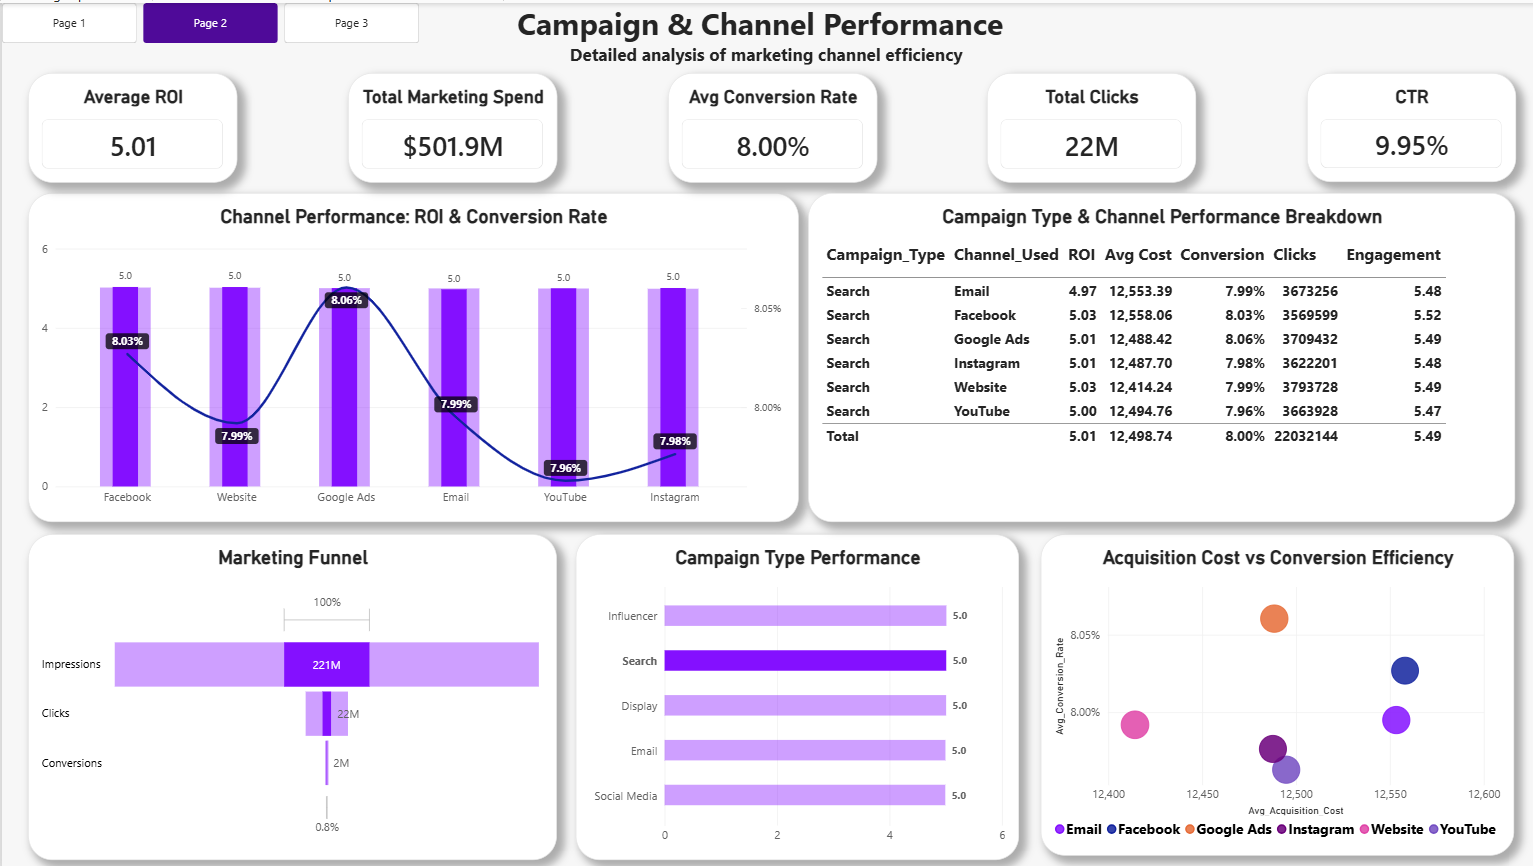

The dashboard page shown, as its layout file describes it:
{"tool":"powerbi","page":{"name":"Page 2","canvas":[1920,1080],"ordinal":1},"visuals":[{"type":"textbox","box":[10,0,280,280],"z":0},{"type":"textbox","box":[0,0,1920,77.1],"z":1000},{"type":"lineClusteredColumnComboChart","title":"Channel Performance: ROI & Conversion Rate","fields":{"Category":["marketing_campaign_dataset.Channel_Used"],"Y":["_Measure.Avg_ROI"],"Y2":["_Measure.Avg_Conversion_Rate"]},"box":[32.4,237.7,960.7,410.7],"z":2000},{"type":"cardVisual","title":"Average ROI","fields":{"Data":["_Measure.Avg_ROI"]},"box":[33,86.9,260.7,136.7],"z":3000},{"type":"cardVisual","title":"Avg Conversion Rate","fields":{"Data":["_Measure.Avg_Conversion_Rate"]},"box":[830.4,87,260.7,136.7],"z":4000},{"type":"cardVisual","title":"Total Clicks","fields":{"Data":["_Measure.Total_Clicks"]},"box":[1229,87,260.7,136.7],"z":5000},{"type":"cardVisual","title":"Total Marketing Spend","fields":{"Data":["_Measure.Total_Acquisition_Cost"]},"box":[431.7,86.9,260.7,136.7],"z":6000},{"type":"cardVisual","title":"CTR","fields":{"Data":["_Measure.CTR"]},"box":[1627.7,86.9,260.8,136.4],"z":7000},{"type":"clusteredBarChart","title":"Campaign Type Performance","fields":{"Category":["marketing_campaign_dataset.Campaign_Type"],"Y":["_Measure.Avg_ROI"]},"box":[716,662.5,552.8,406.5],"z":8000},{"type":"scatterChart","title":"Acquisition Cost vs Conversion Efficiency","fields":{"Series":["marketing_campaign_dataset.Channel_Used"],"Size":["_Measure.Total_Clicks"],"X":["_Measure.Avg_Acquisition_Cost"],"Y":["_Measure.Avg_Conversion_Rate"]},"box":[1295.5,662.5,590.8,400.9],"z":10000},{"type":"funnel","title":"Marketing Funnel","fields":{"Y":["Sum(marketing_campaign_dataset.Impressions)","_Measure.Total_Clicks","_Measure.Estimated_Conversions"]},"box":[33.5,661.9,659,406],"z":11000},{"type":"tableEx","title":"Campaign Type & Channel Performance Breakdown","fields":{"Values":["marketing_campaign_dataset.Campaign_Type","marketing_campaign_dataset.Channel_Used","_Measure.Avg_ROI","_Measure.Avg_Acquisition_Cost","_Measure.Avg_Conversion_Rate","_Measure.Total_Clicks","Avg(marketing_campaign_dataset.Engagement_Score)"]},"box":[1005.7,237.7,881.9,410.7],"z":12000},{"type":"pageNavigator","box":[0,0,520,50],"z":12001}]}

Visuals, with their boxes in screenshot pixels (x1, y1, x2, y2), scaled from the page's 1920x1080 canvas onto the 1533x866 screenshot:
textbox: locate(8, 0, 232, 225)
textbox: locate(0, 0, 1532, 62)
"Channel Performance: ROI & Conversion Rate" lineClusteredColumnComboChart: locate(26, 191, 793, 520)
"Average ROI" cardVisual: locate(26, 70, 235, 179)
"Avg Conversion Rate" cardVisual: locate(663, 70, 871, 179)
"Total Clicks" cardVisual: locate(981, 70, 1189, 179)
"Total Marketing Spend" cardVisual: locate(345, 70, 553, 179)
"CTR" cardVisual: locate(1300, 70, 1508, 179)
"Campaign Type Performance" clusteredBarChart: locate(572, 531, 1013, 857)
"Acquisition Cost vs Conversion Efficiency" scatterChart: locate(1034, 531, 1506, 853)
"Marketing Funnel" funnel: locate(27, 531, 553, 856)
"Campaign Type & Channel Performance Breakdown" tableEx: locate(803, 191, 1507, 520)
pageNavigator: locate(0, 0, 415, 40)
